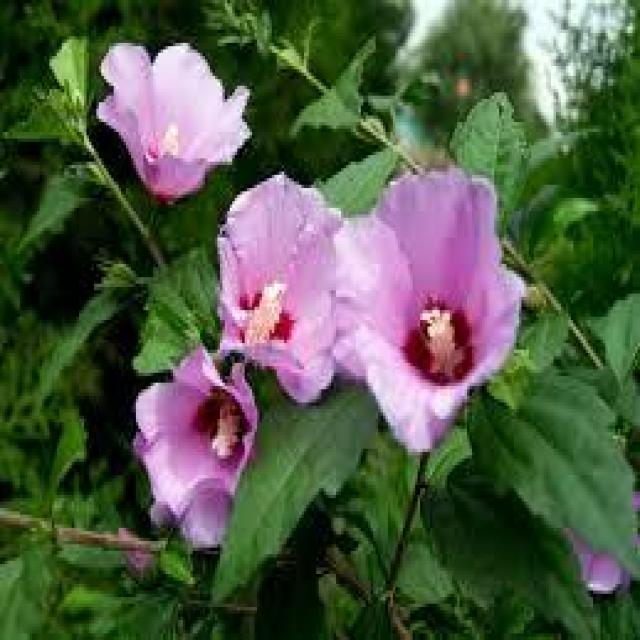organic waste: (322, 170, 526, 437), (208, 152, 354, 419), (131, 350, 287, 574), (86, 43, 257, 201)
